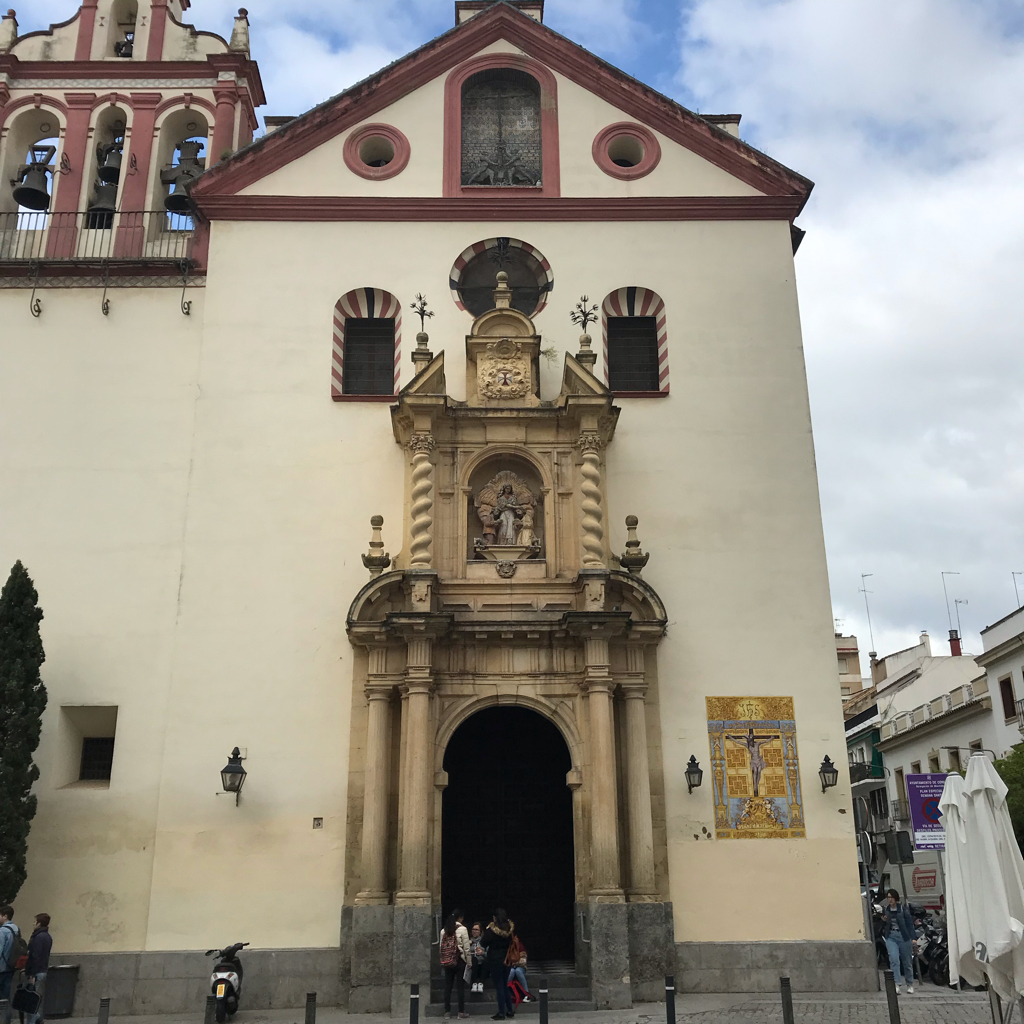arco-medio-punto: (433, 695, 582, 796), (462, 445, 554, 498)
columna-salomonica: (405, 446, 437, 573), (577, 439, 607, 574)
fronton-partido: (338, 566, 657, 634), (392, 346, 618, 412)
ojo-de-buey: (589, 120, 659, 180), (343, 124, 410, 178)
